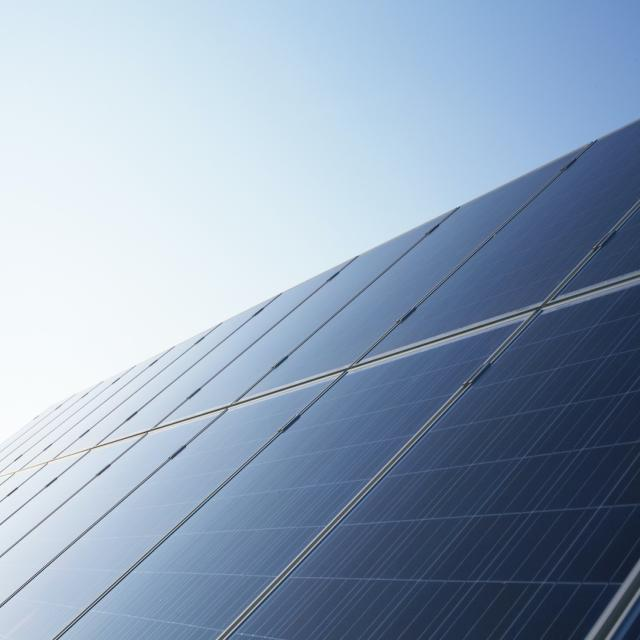clean-solar-panel: (0, 122, 640, 638)
